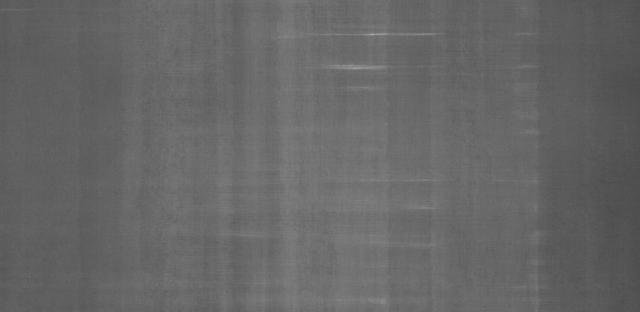waist_folding: (238, 3, 584, 307)
